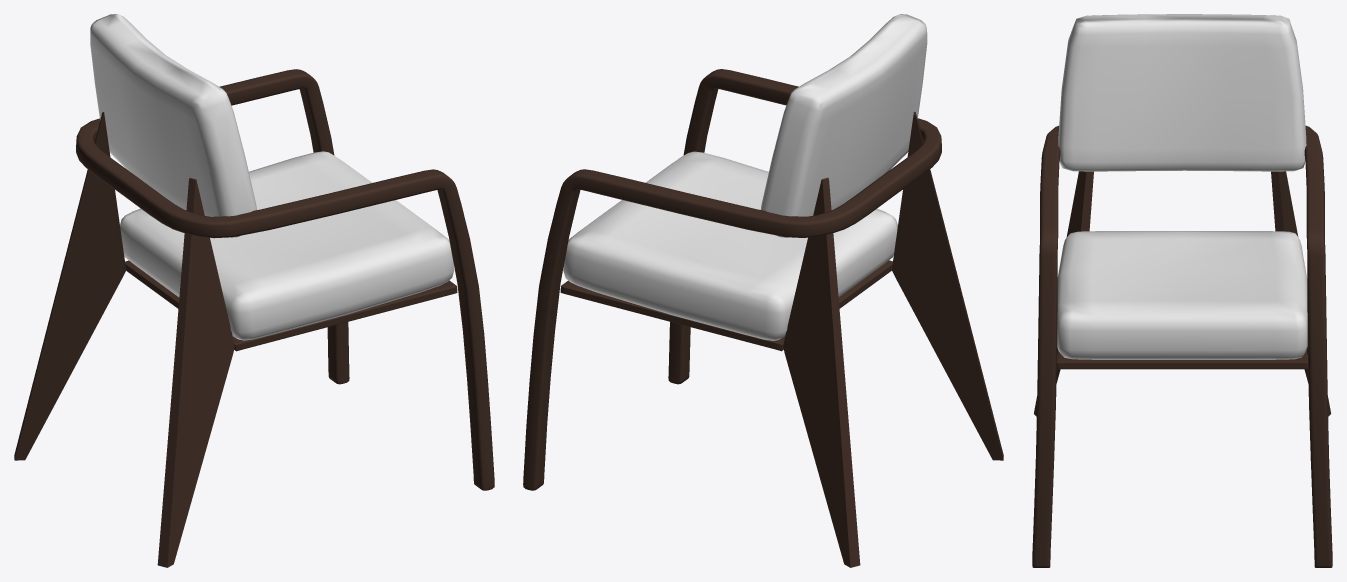
Rendered from MSH_Lobby_Silla2.fbx.
The picture shows the model from 3 angles, left to right: view 1: azimuth 30°, elevation 25°; view 2: azimuth 150°, elevation 25°; view 3: azimuth 270°, elevation 25°; orthographic projection. The views are drawn at different scales.
Visible parts, largest first — view 1: MSH_Lobby_Silla2; view 2: MSH_Lobby_Silla2; view 3: MSH_Lobby_Silla2.
Boxes of the visible parts, x1,y1,x2,y2 form: MSH_Lobby_Silla2: [14, 14, 494, 567]; MSH_Lobby_Silla2: [523, 14, 1003, 567]; MSH_Lobby_Silla2: [1032, 14, 1332, 567].
Bounding box in the file's own units: 93.41 × 119 × 75.35.
